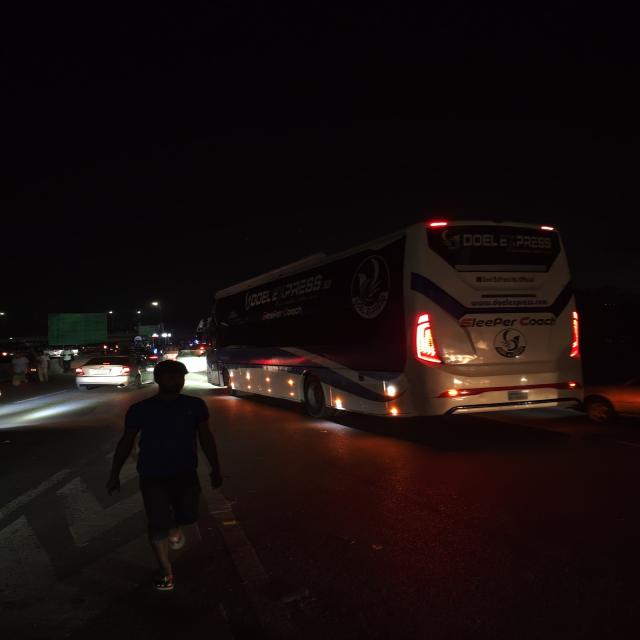bus: (207, 213, 594, 421)
car: (73, 352, 156, 392)
pedestrian: (104, 366, 230, 598), (9, 351, 30, 390)
